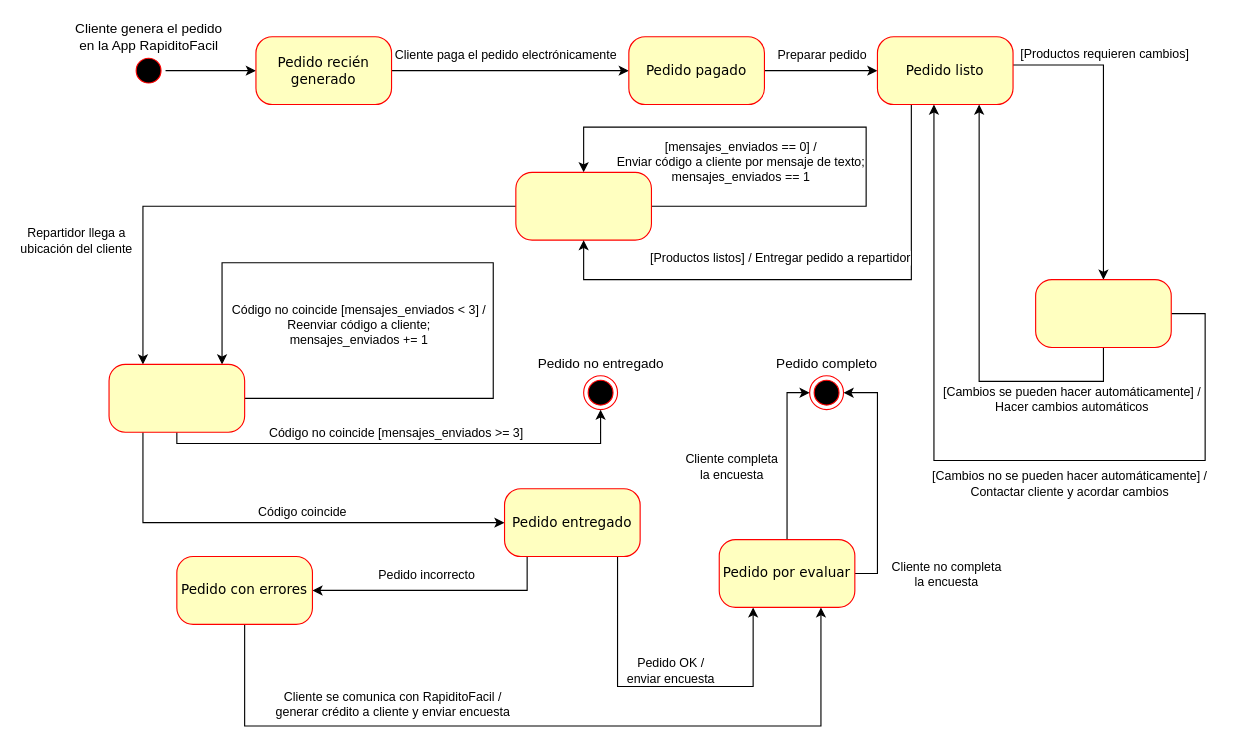
This 1234x755 diagram has some shape labels left out. Here are the shapes that lost their labels. From the top down, the centre of each, then its label:
At (583,205): "Pedido viajando".
At (1103,313): "Pedido por editar".
At (176,397): "Pedido en destino".
